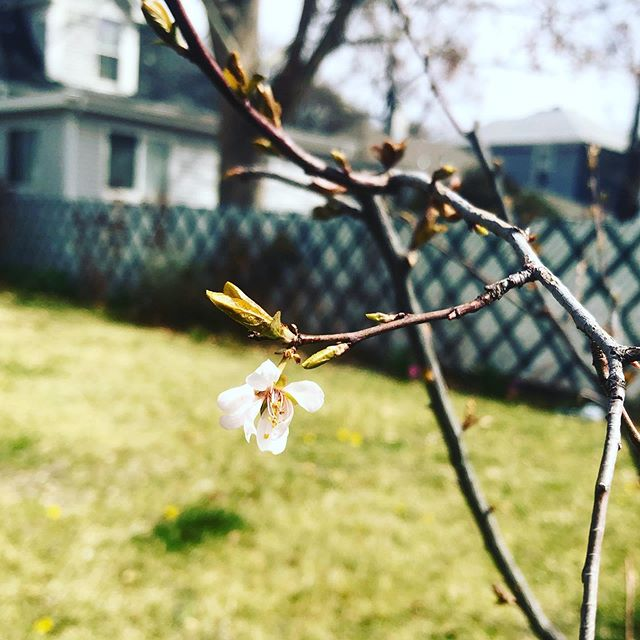flowers: (199, 280, 336, 465)
